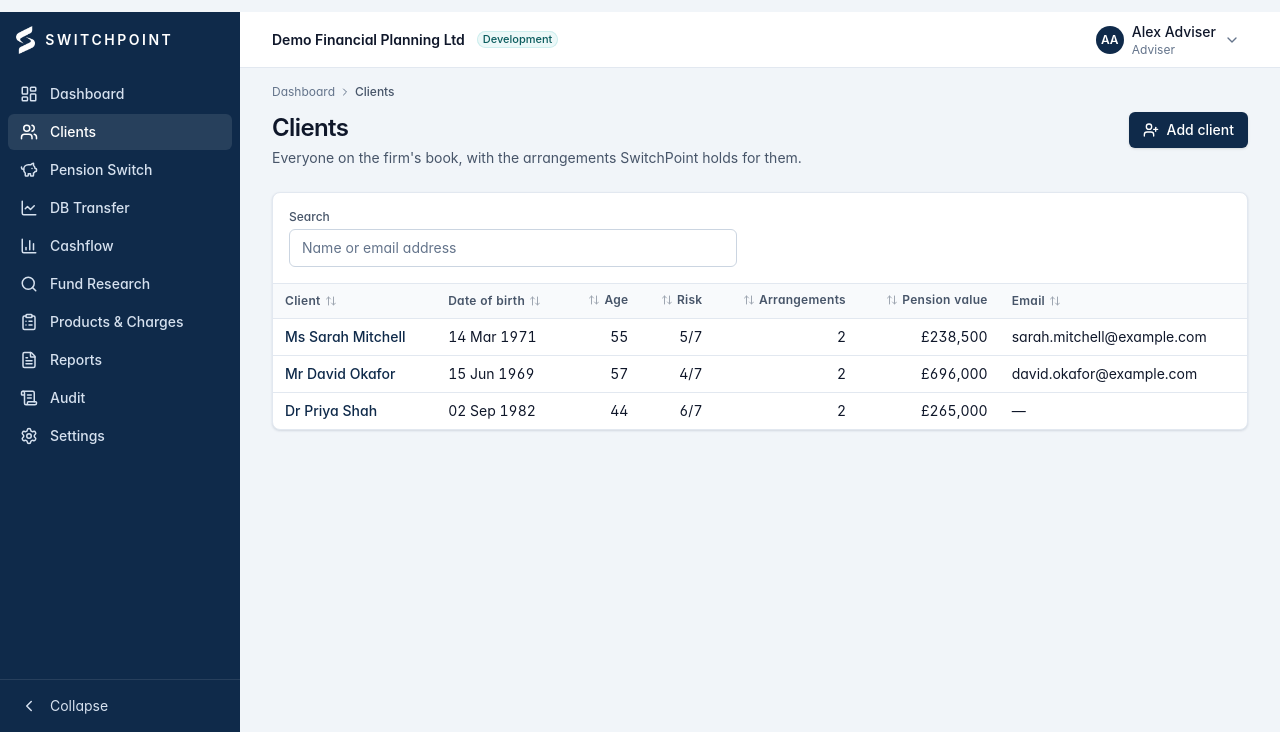
it: clients › masks the National Insurance number
Click the link "Ms Sarah Mitchell" at coordinates (345, 336), box top-left (285, 328), bottom-right (406, 345)
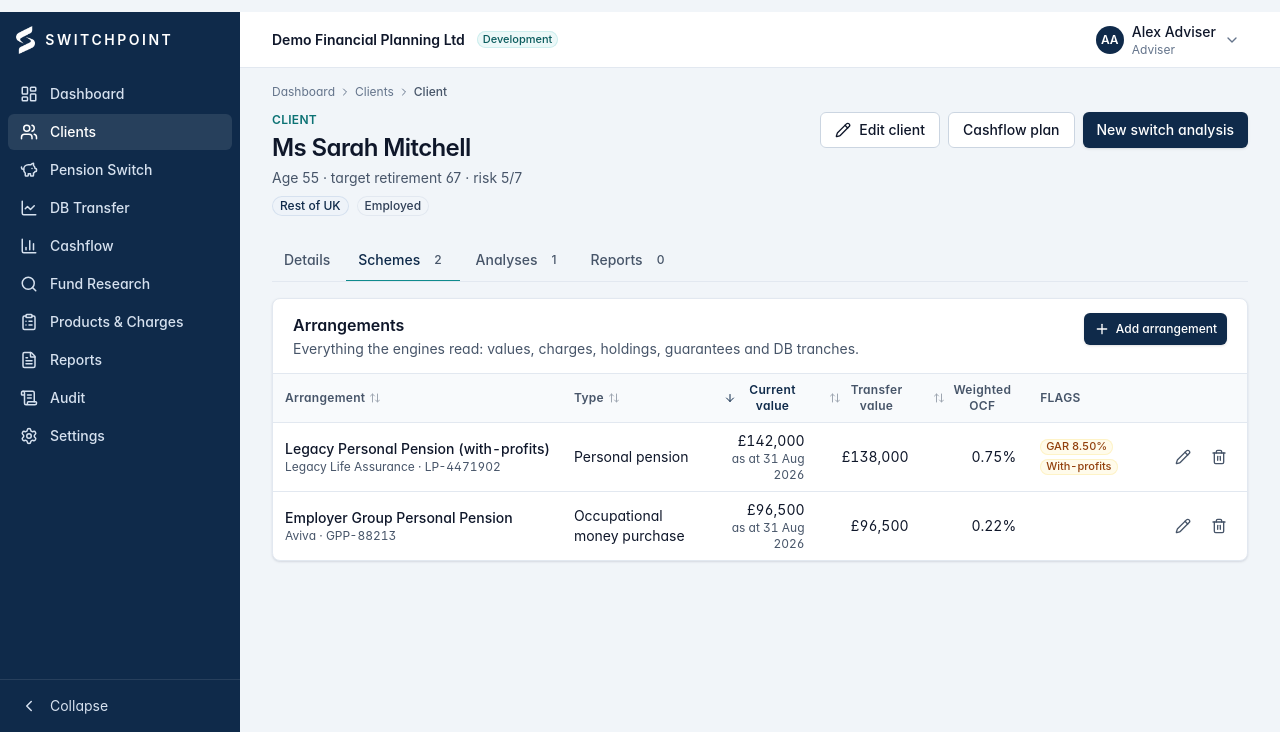
Expected: the heading "Ms Sarah Mitchell" is shown, top-left (272, 133), bottom-right (471, 162)
Click the tab "Details" at coordinates (307, 261), box top-left (272, 240), bottom-right (342, 282)
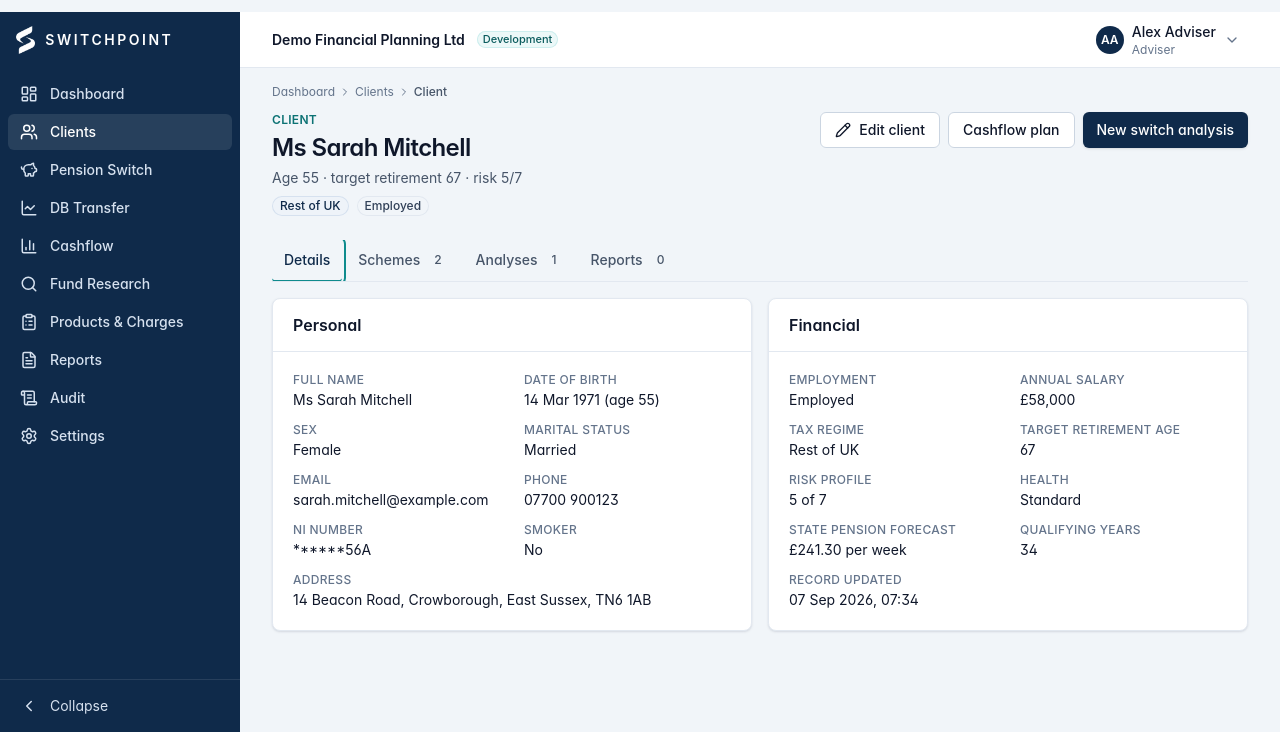
Expected: the text "******56A" is shown, top-left (293, 541), bottom-right (371, 558)
